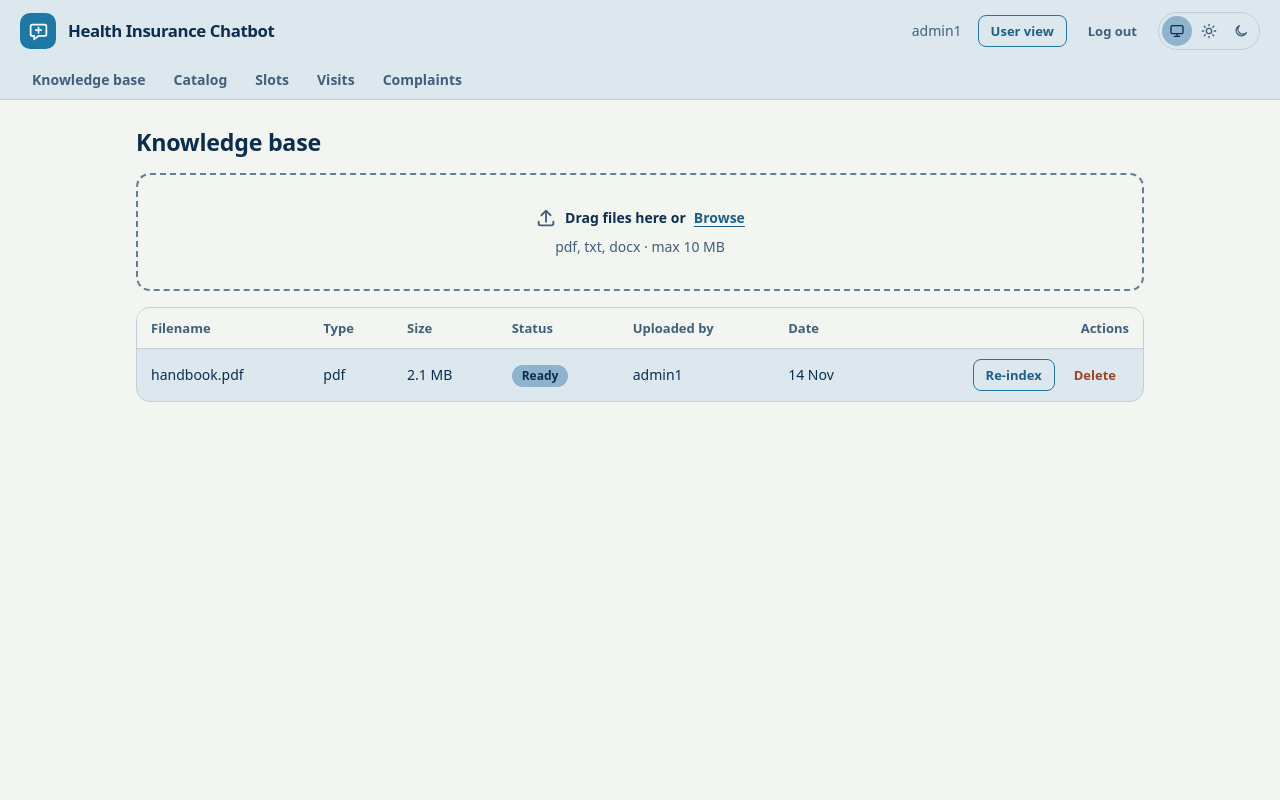
Scenario: AdminKbPage › G9: delete asks for confirmation first
Click the button with test id "kb-delete" at [1095, 375], box top-left (1061, 359), bottom-right (1129, 391)
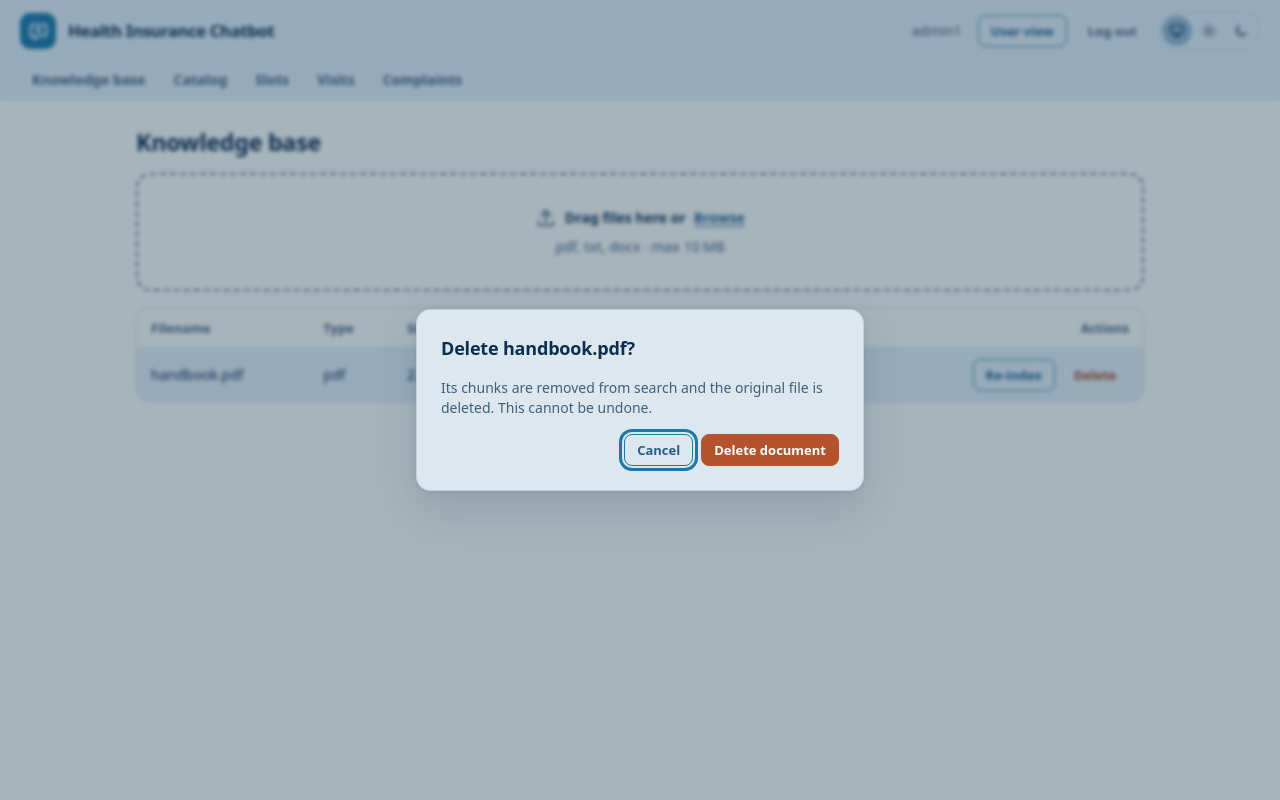
Click the button with test id "confirm-cancel" at [659, 450], box top-left (624, 434), bottom-right (693, 466)
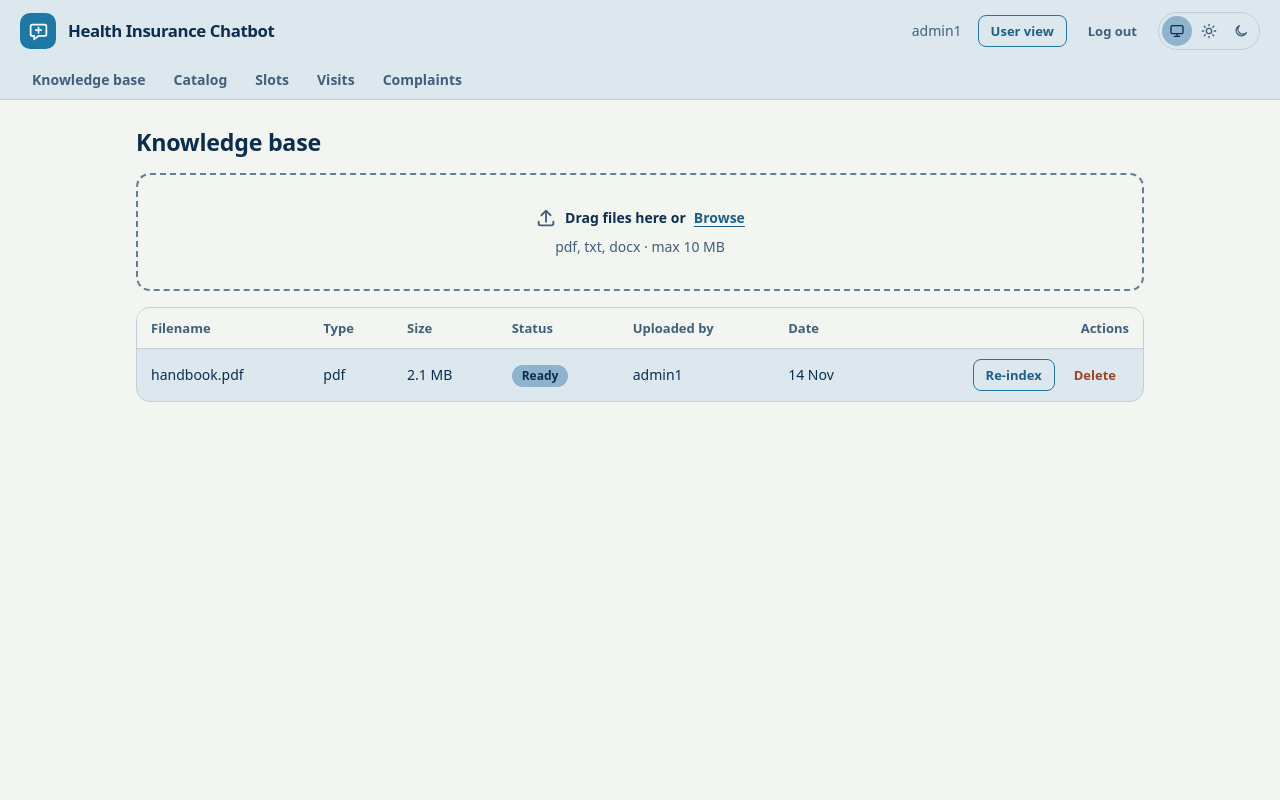
Now the dialog is gone
Click the button with test id "kb-delete" at [1095, 375], box top-left (1061, 359), bottom-right (1129, 391)
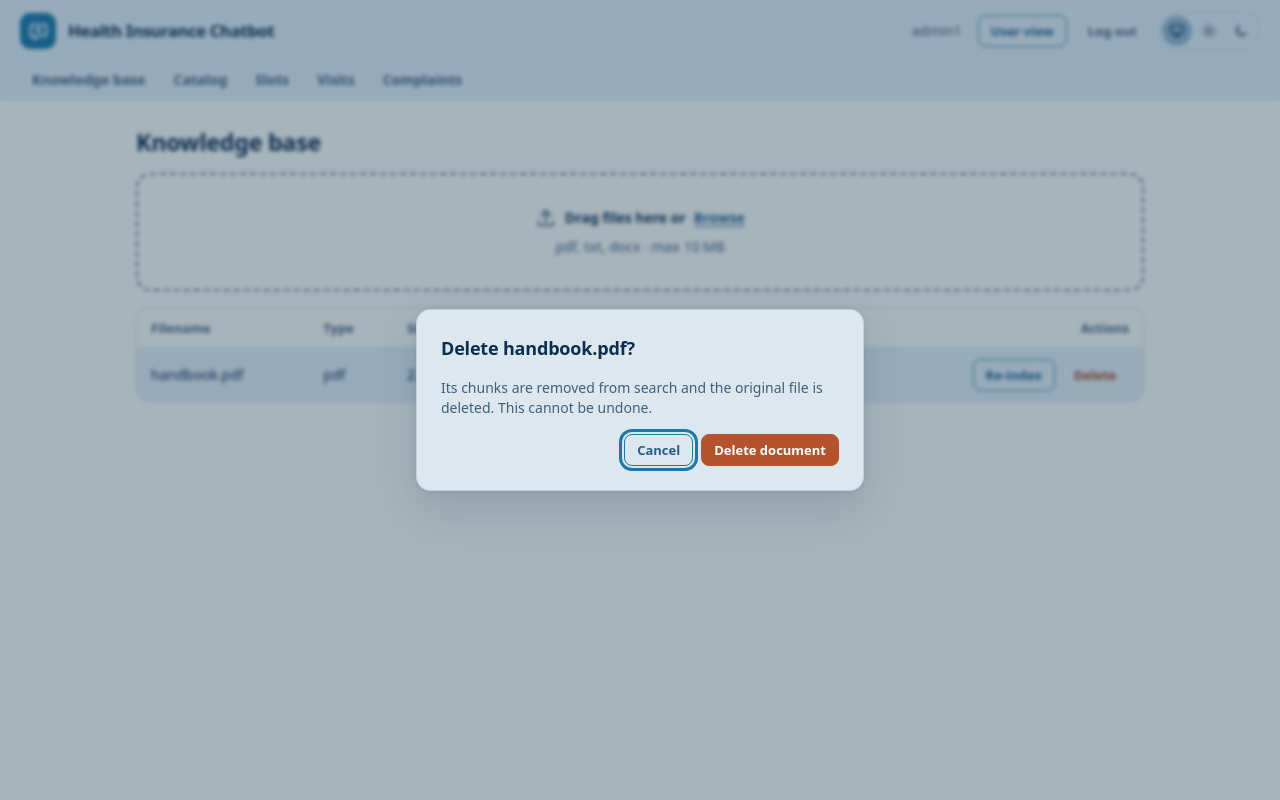
Click the button with test id "confirm-yes" at [770, 450], box top-left (701, 434), bottom-right (839, 466)
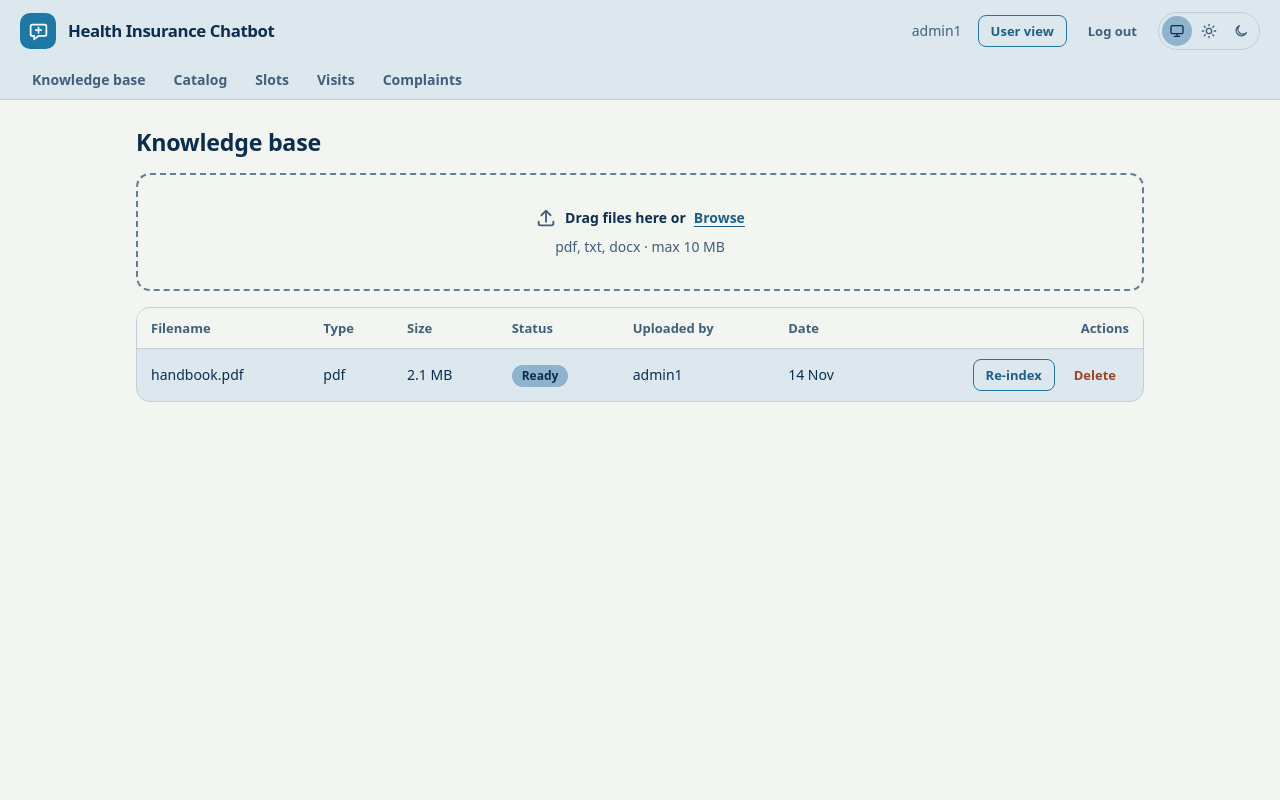
Now the dialog is gone
